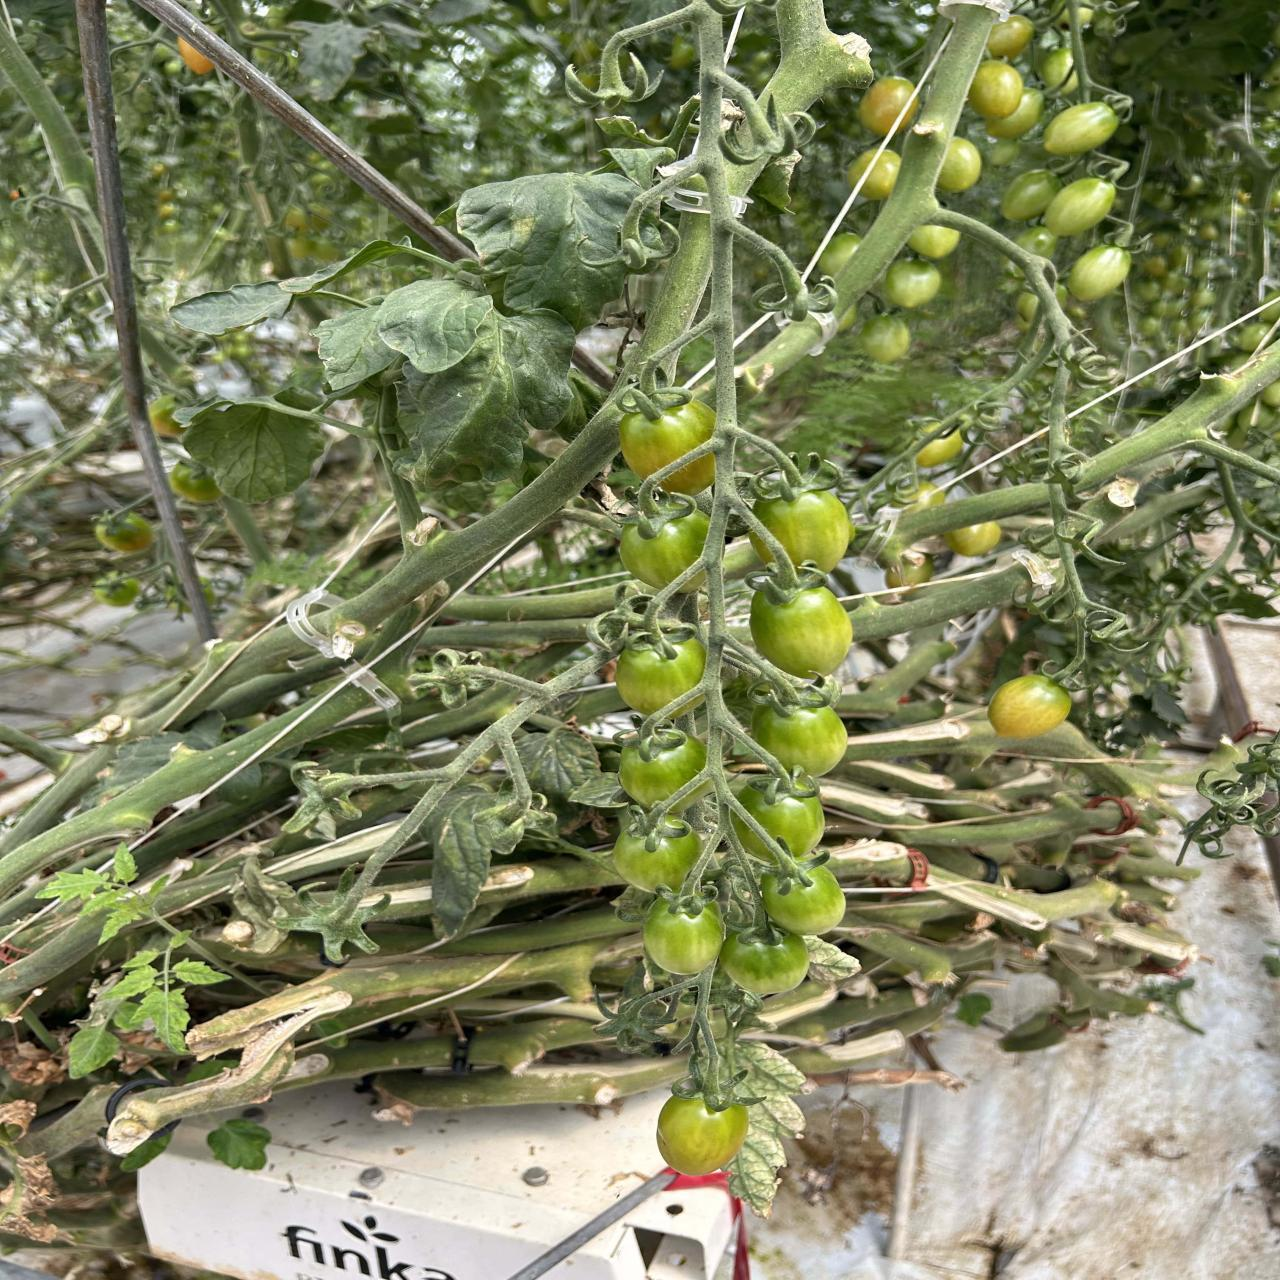Rugose leaf: (396, 309, 573, 489), (458, 173, 641, 331), (316, 279, 492, 390), (183, 388, 325, 503), (722, 1040, 806, 1213), (415, 788, 496, 935), (38, 845, 150, 945), (517, 727, 602, 801), (170, 284, 292, 334), (114, 987, 190, 1053), (97, 951, 159, 1002), (69, 1016, 118, 1078), (36, 869, 115, 900), (172, 958, 229, 985)
Rugose tomato: (750, 585, 853, 678), (753, 491, 853, 573), (620, 401, 715, 479), (658, 1095, 748, 1176), (619, 509, 709, 588), (619, 729, 707, 810), (615, 638, 704, 715), (750, 706, 847, 776), (613, 817, 701, 892), (738, 785, 824, 860), (644, 897, 724, 975), (761, 863, 845, 935), (721, 926, 809, 995), (987, 675, 1071, 738), (1042, 177, 1116, 237), (1043, 102, 1119, 155), (1067, 246, 1131, 301), (859, 77, 917, 137), (969, 60, 1024, 121), (1001, 170, 1061, 222), (883, 259, 941, 309), (986, 89, 1043, 139), (847, 149, 900, 200), (860, 314, 911, 363), (938, 137, 981, 192), (987, 16, 1034, 60), (817, 232, 860, 277), (662, 459, 714, 495), (908, 225, 960, 259), (733, 819, 769, 859)
